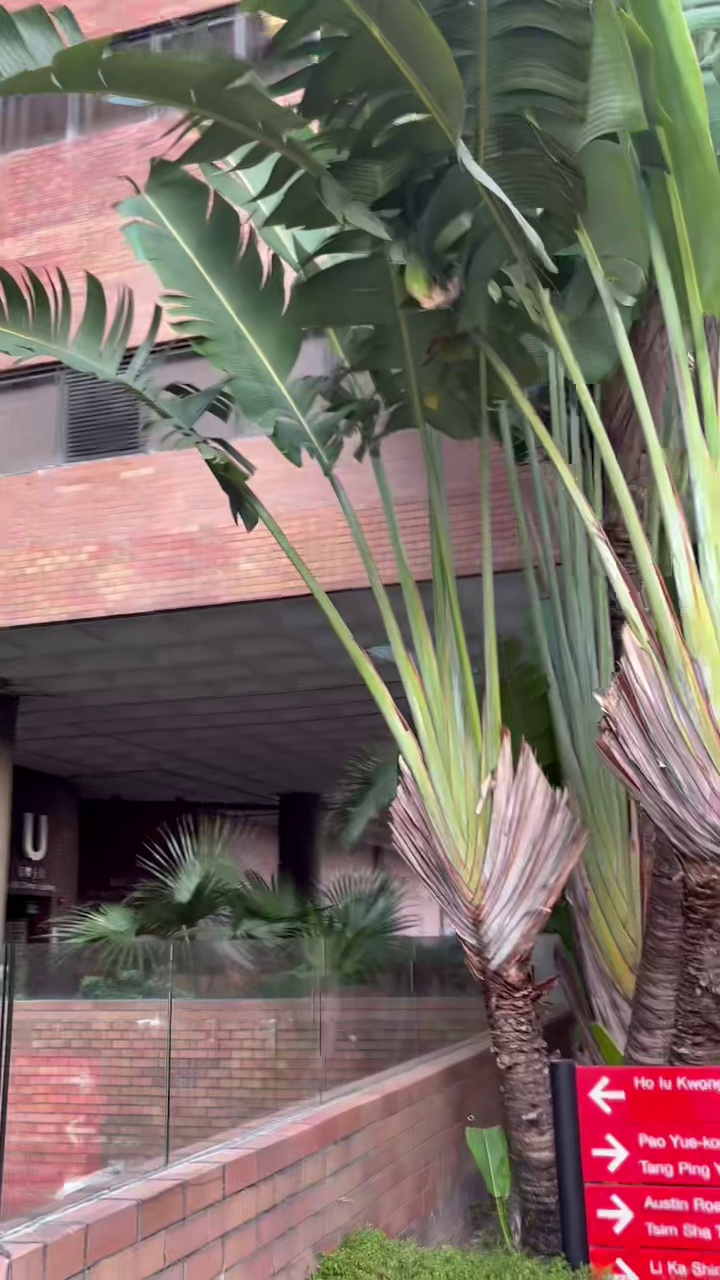Travellers-tree: (0, 0, 719, 1251)
